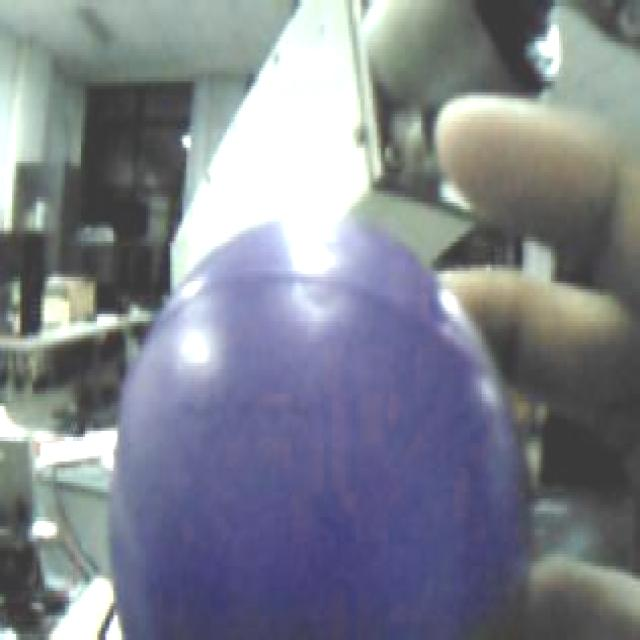BallPurple: (112, 219, 524, 640)
